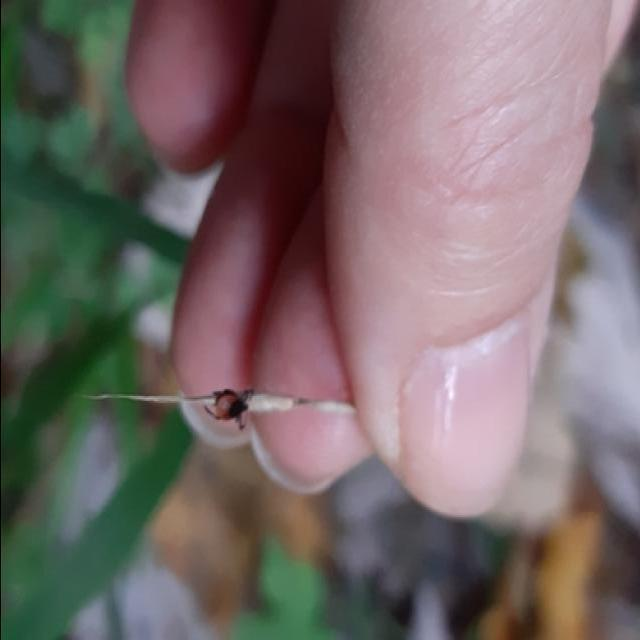Ixodes Ricinus-F: (206, 389, 248, 430)
